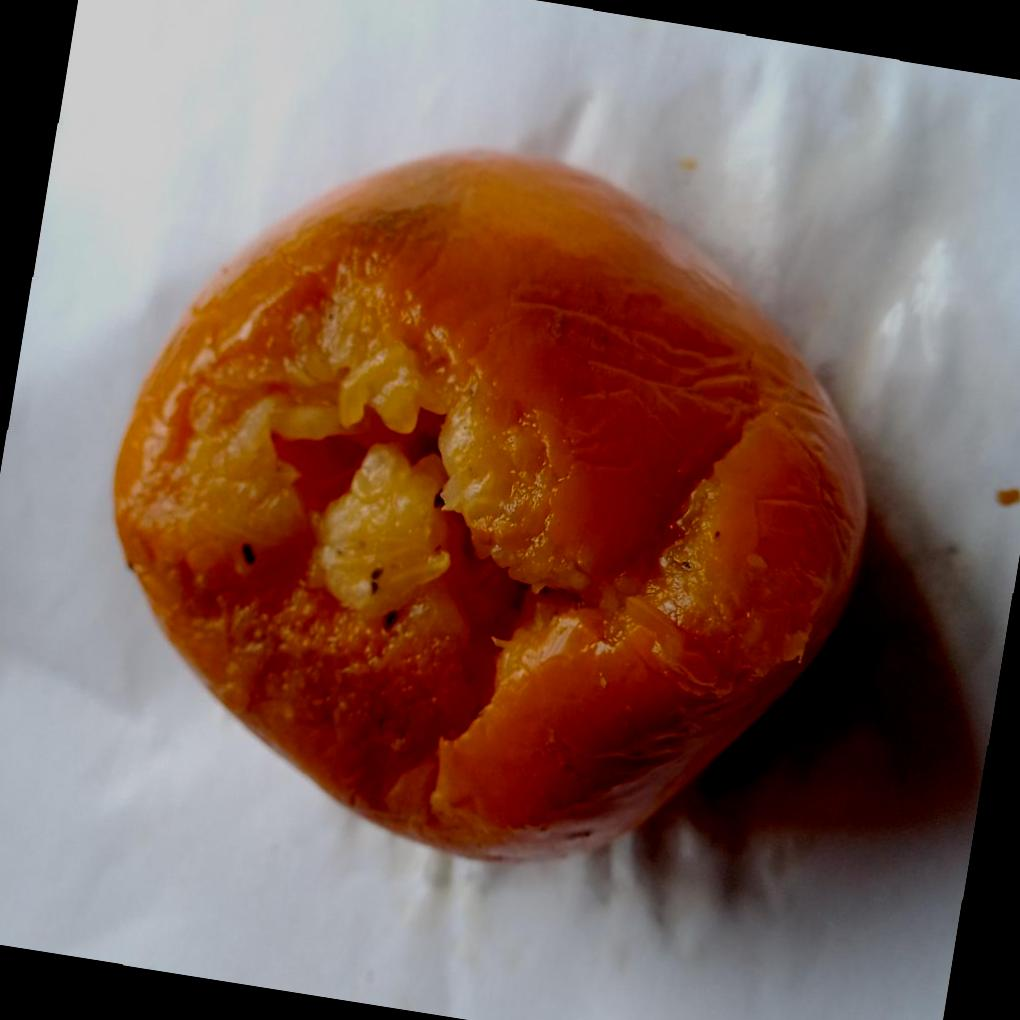FreshOrange: (108, 151, 869, 867)
